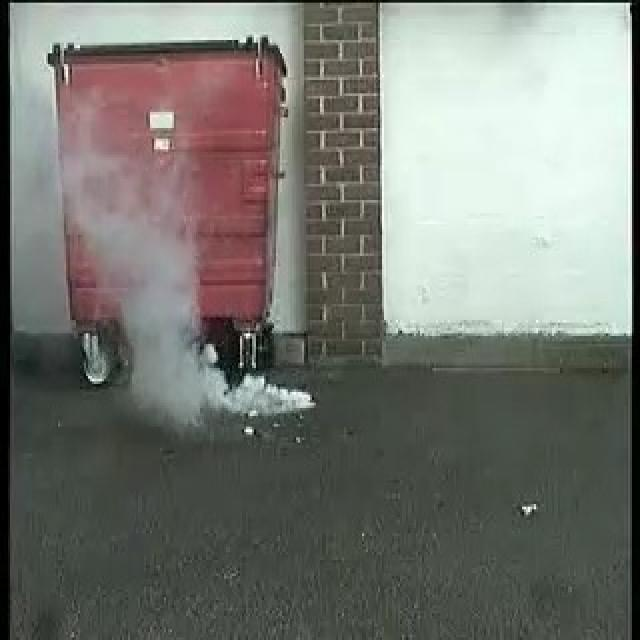smoke: (102, 222, 312, 416)
